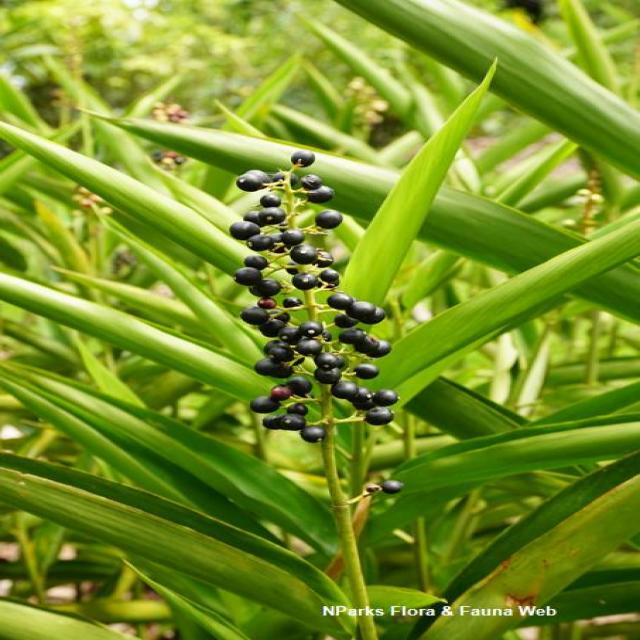Aquatic-Ginger: (228, 147, 406, 497)
